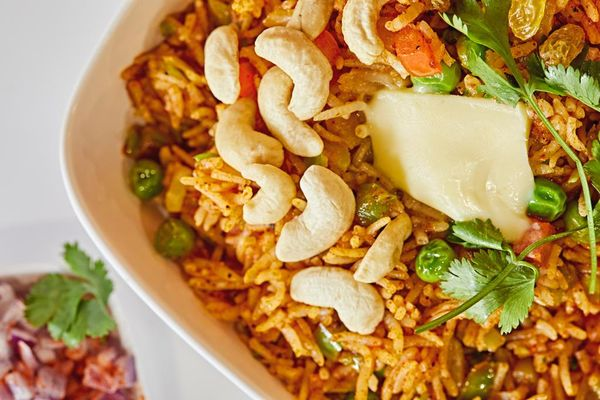curry: (22, 242, 117, 353)
pasta: (274, 164, 356, 264), (252, 24, 333, 119)
sushi: (57, 0, 589, 395)
